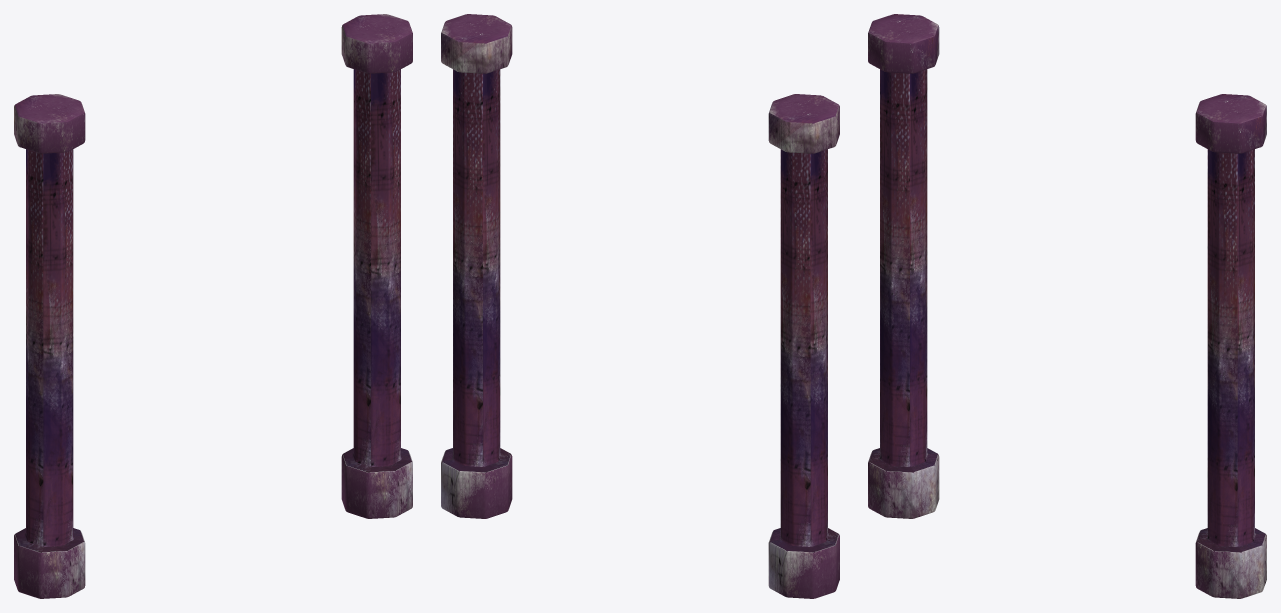
The model's file is MANOR_WINDOW-PILLAR_2_001.obj.
The picture shows the model from 3 angles, left to right: view 1: azimuth 30°, elevation 25°; view 2: azimuth 150°, elevation 25°; view 3: azimuth 330°, elevation 25°; orthographic projection.
Parts seen in each view (by area): view 1: MANOR_WINDOW-PILLAR_2_001; view 2: MANOR_WINDOW-PILLAR_2_001; view 3: MANOR_WINDOW-PILLAR_2_001.
Part boxes in pixels (x1=…): MANOR_WINDOW-PILLAR_2_001: x1=14, y1=14, x2=412, y2=598; MANOR_WINDOW-PILLAR_2_001: x1=441, y1=14, x2=839, y2=598; MANOR_WINDOW-PILLAR_2_001: x1=868, y1=14, x2=1266, y2=598.
Size of the model in its own units: 2.57 by 3 by 0.4135.
